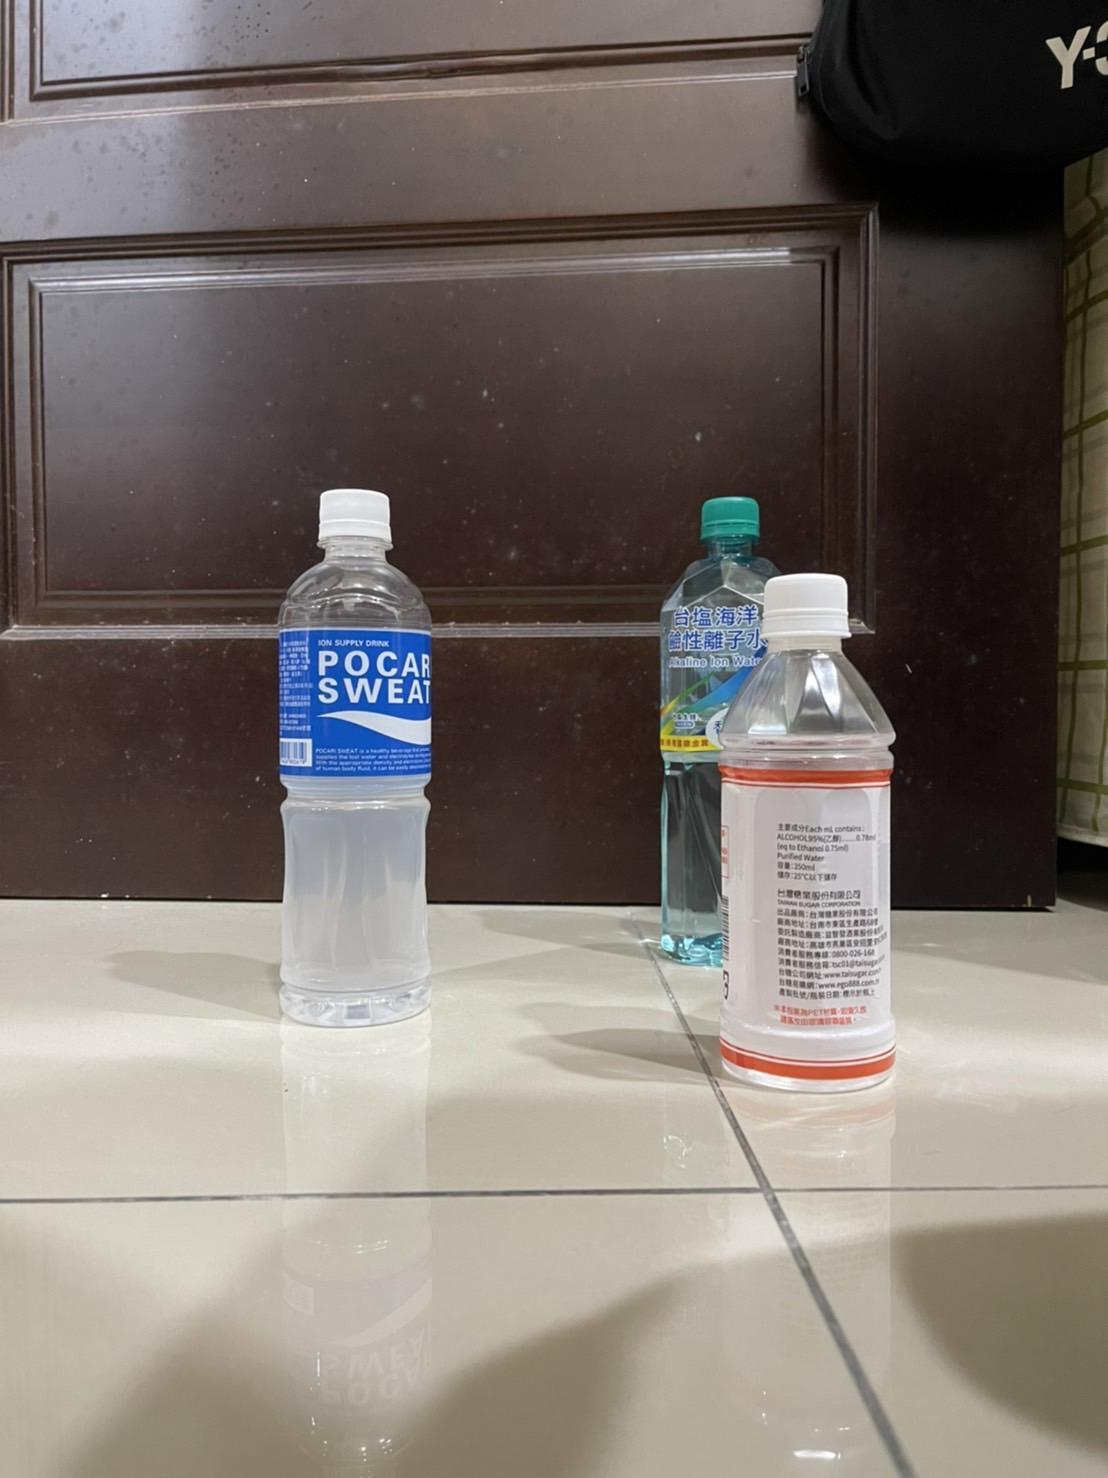bottle: (708, 564, 923, 1095), (257, 475, 456, 1038), (634, 484, 770, 976)
